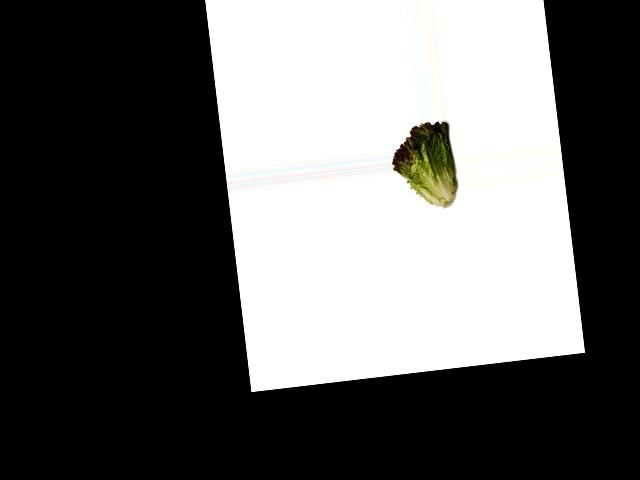lettuce: (389, 118, 458, 211)
